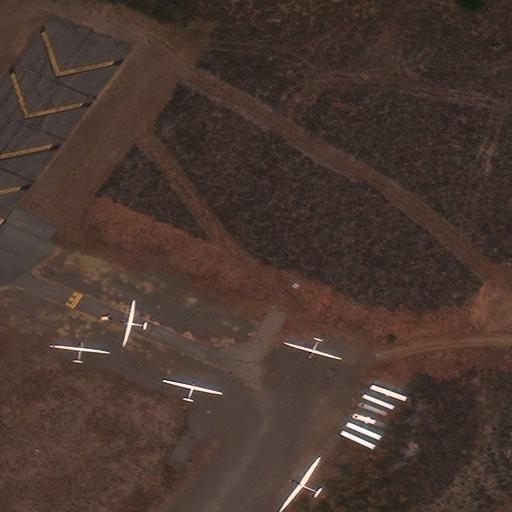Medium Civil Transport: (278, 456, 319, 511), (162, 379, 222, 402), (49, 341, 110, 363), (283, 338, 341, 360)
Small Civil Transport: (120, 300, 146, 346)
